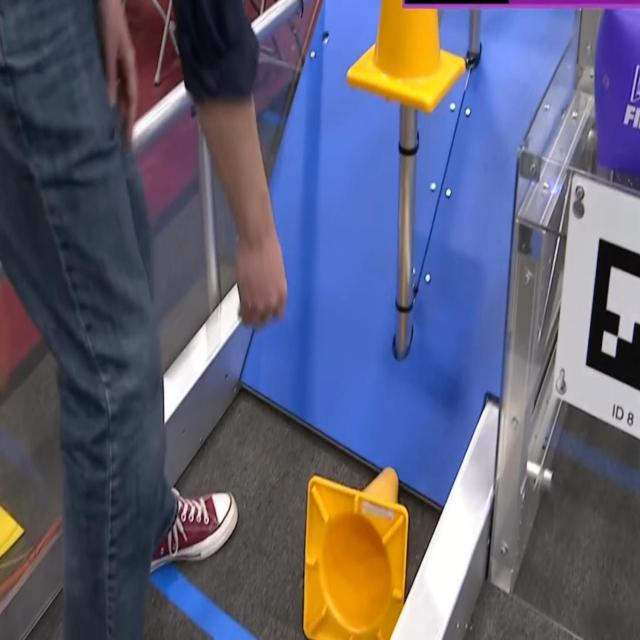frc_cone: (293, 456, 414, 626), (346, 0, 468, 116)
frc_cube: (596, 0, 640, 190)
